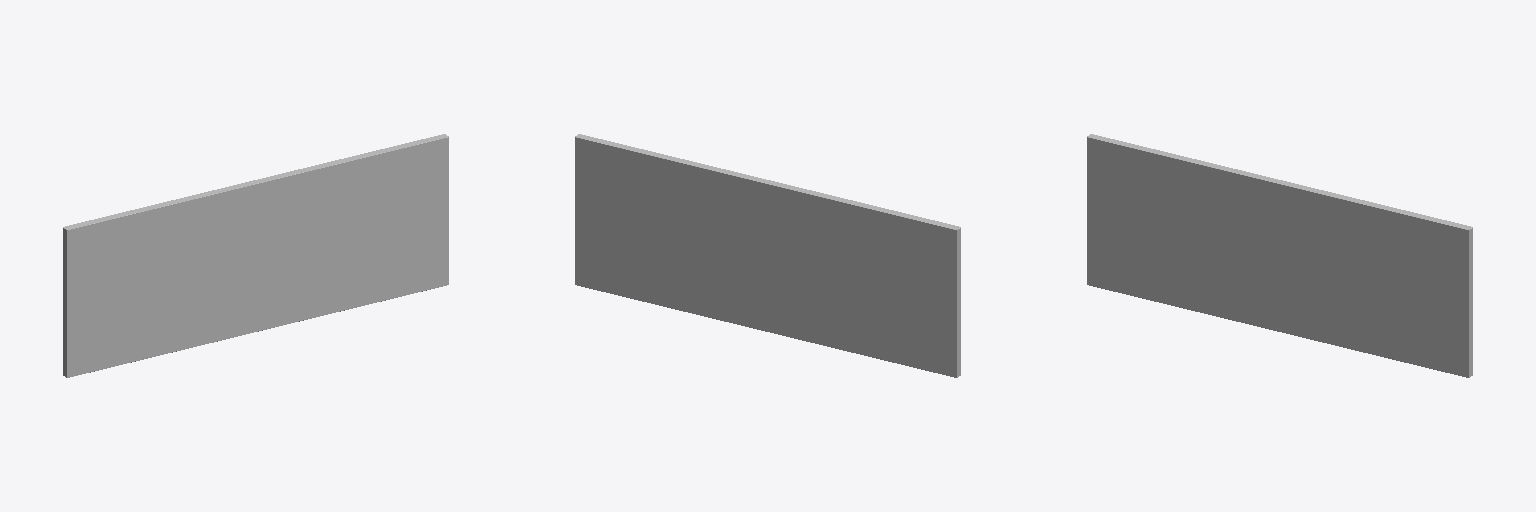
File: B07GFW9GFX_part_7.obj
The picture shows the model from 3 angles: view 1: azimuth 30°, elevation 25°; view 2: azimuth 150°, elevation 25°; view 3: azimuth 330°, elevation 25°; orthographic projection.
Size of the model in its own units: 0.3652 by 0.135 by 0.0074.